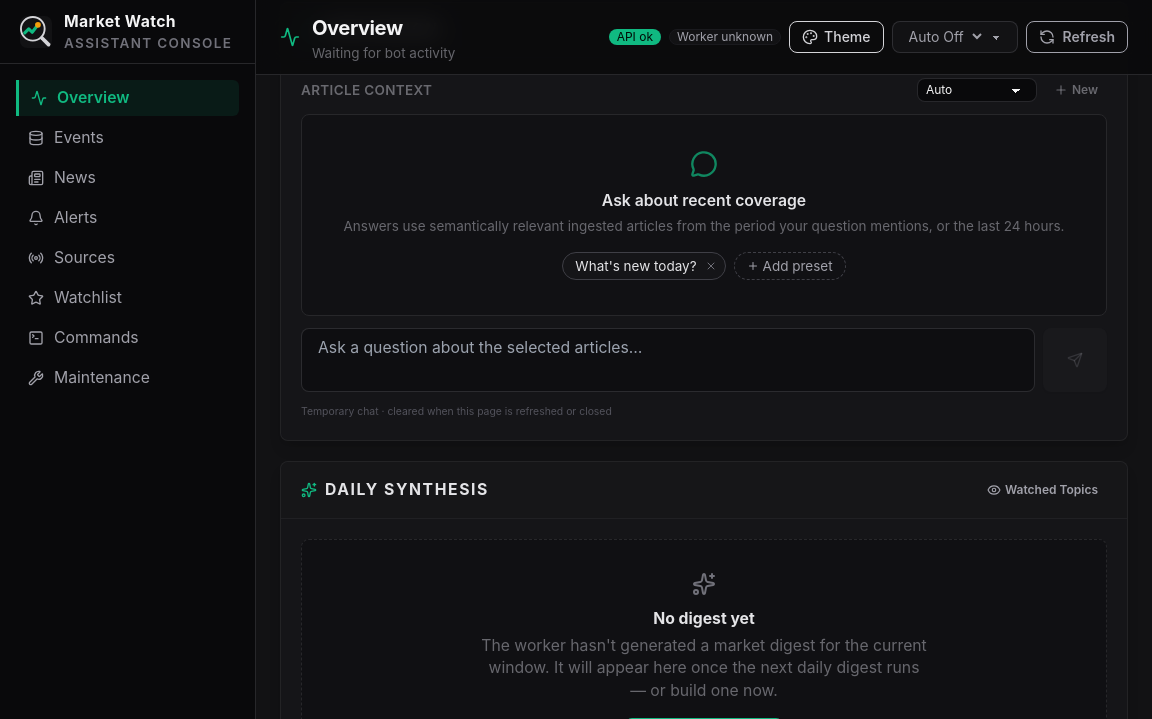
App data states › prevents duplicate discussion sends while a response is pending
The width and height of the screenshot is (1152, 719).
(page scrolled)
Type "Summarize rates." into the text box named "Discussion message". click: (668, 360)
box: [301, 328, 1035, 392]
(page scrolled)
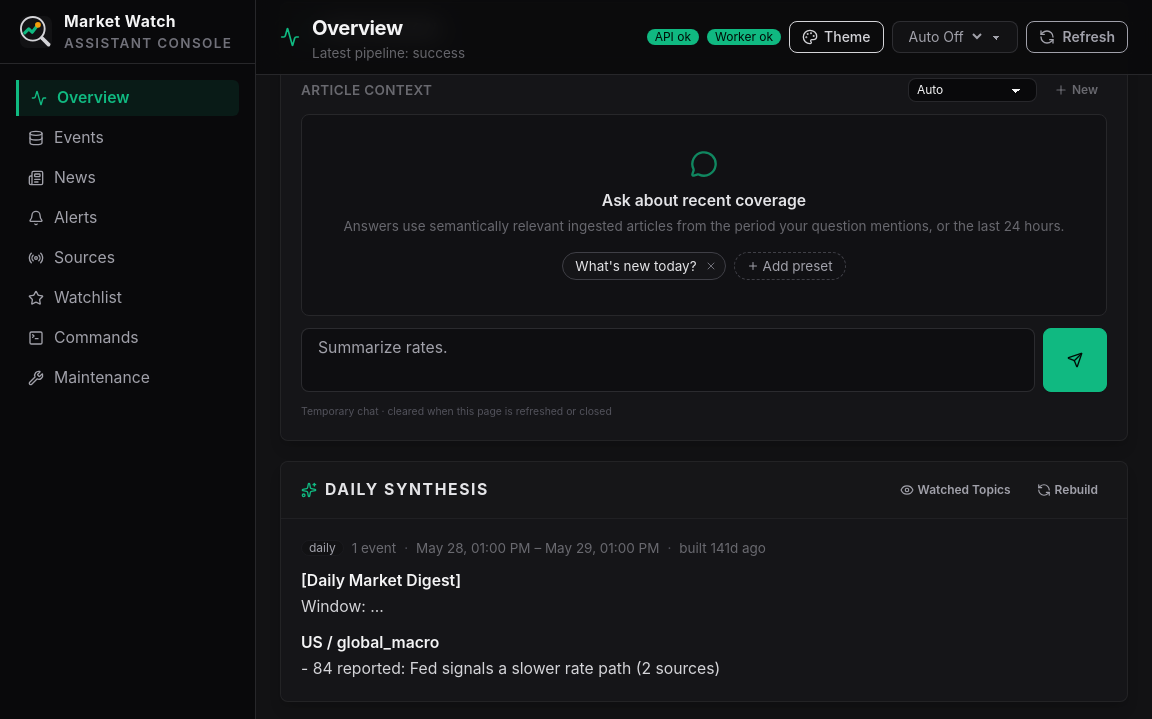
Click the button named "Send discussion message". click: (1075, 360)
box: [1043, 328, 1107, 392]
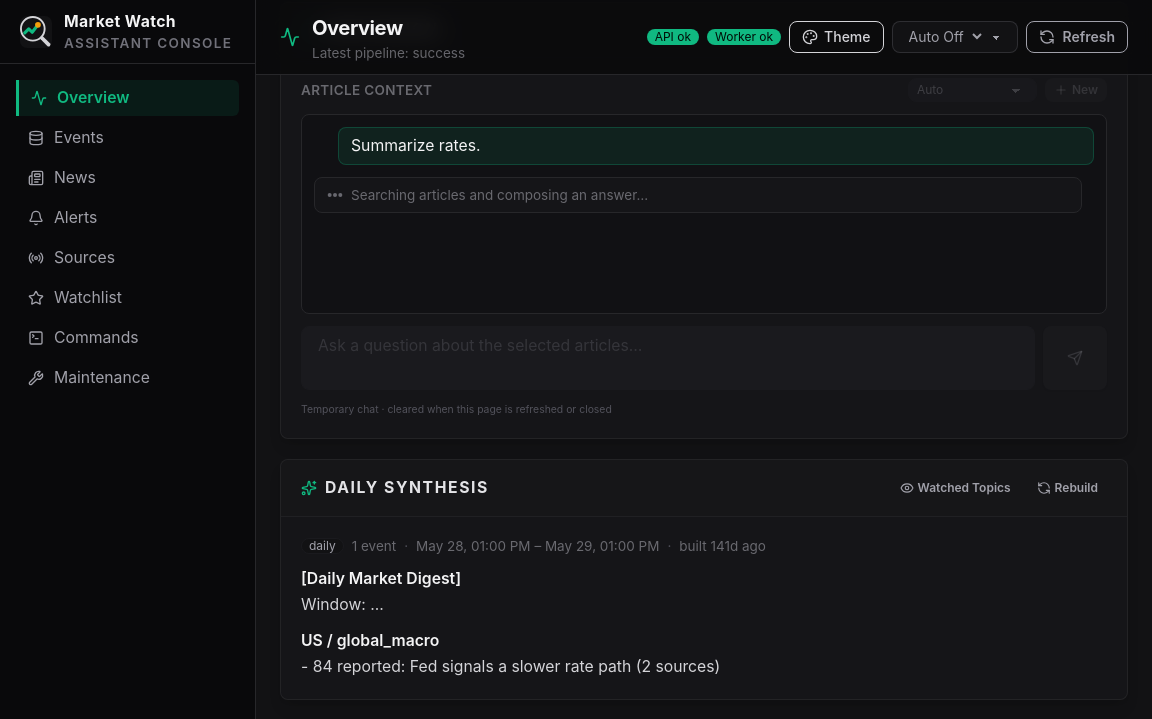
Click the button named "Send discussion message". click: (1075, 358)
box: [1043, 326, 1107, 390]
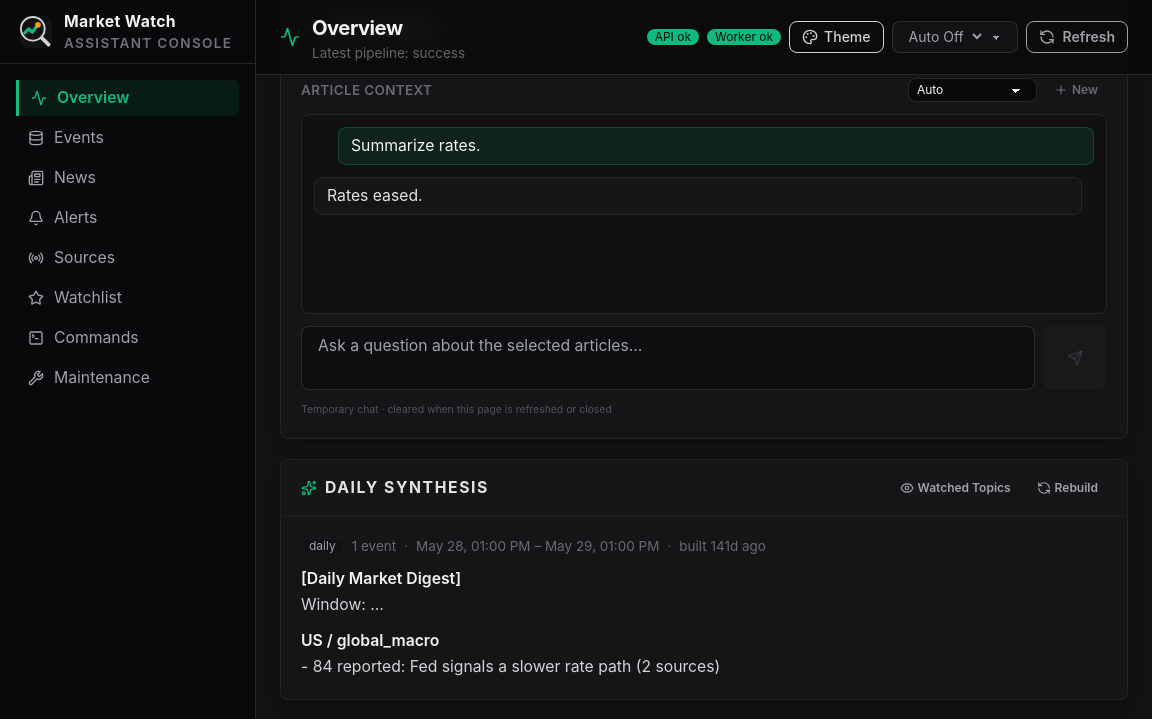
Expected: the button named "Send discussion message" is disabled, [1043, 326, 1107, 390]
Expected: the text "Rates eased." is shown, [327, 186, 423, 205]
